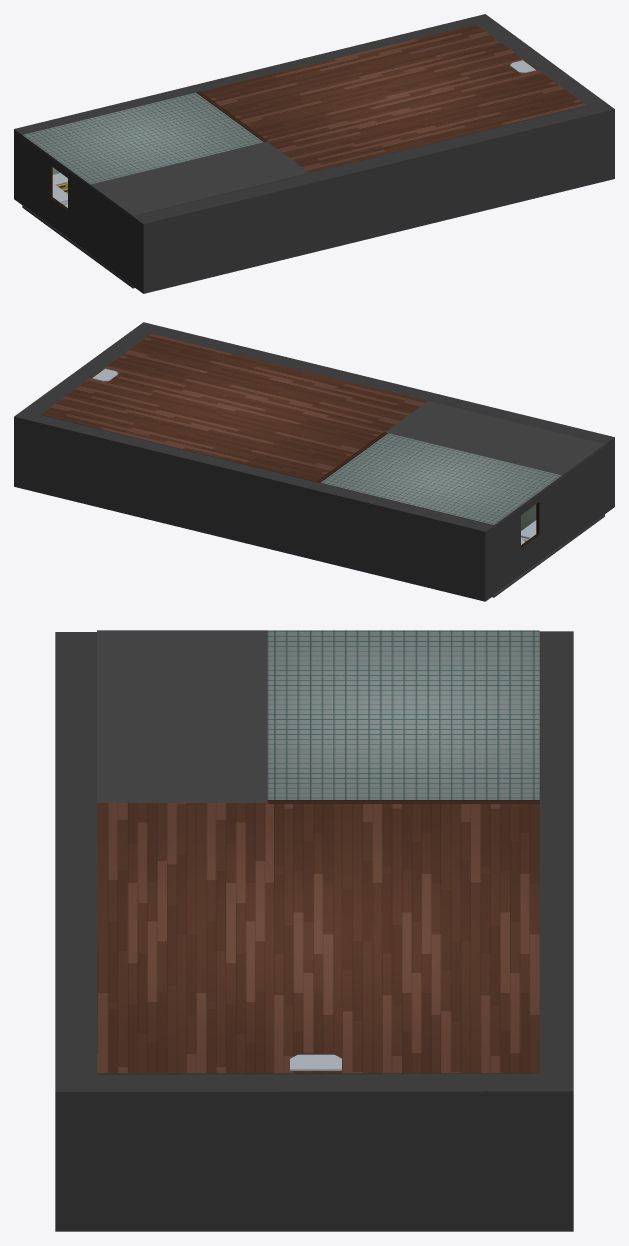
The model's file is CompleteRoom_70s_v10.fbx.
3 views of the same model, one above another, from view 1: azimuth 30°, elevation 25°; view 2: azimuth 150°, elevation 25°; view 3: azimuth 270°, elevation 25° (orthographic). The views are drawn at different scales.
Parts seen in each view (by area): view 1: U_Ceiling_70s, U_Wall_70s_2, U_SideRoom_70s, U_Wall_70s_7, U_Wall_70s_3, U_Wall_70s_1, U_Wall_70s_5, U_KitchenCounters_70s, U_Floor_70s; view 2: U_Ceiling_70s, U_Wall_70s_3, U_Wall_70s_5, U_SideRoom_70s, U_Wall_70s_7, U_Wall_70s_1, U_Wall_70s_2, U_Floor_70s; view 3: U_Ceiling_70s, U_Wall_70s_1, U_Wall_70s_2, U_Wall_70s_3, U_SideRoom_70s, U_Wall_70s_5, U_Fireplace_70s_1.
Part boxes in pixels (<box>): U_Ceiling_70s: <box>22,24,586,218</box>; U_Wall_70s_2: <box>310,101,614,250</box>; U_SideRoom_70s: <box>88,173,320,293</box>; U_Wall_70s_7: <box>14,128,88,252</box>; U_Wall_70s_3: <box>191,19,472,91</box>; U_Wall_70s_1: <box>466,14,603,104</box>; U_Wall_70s_5: <box>17,86,195,174</box>; U_KitchenCounters_70s: <box>52,173,67,207</box>; U_Floor_70s: <box>22,205,134,288</box>; U_Ceiling_70s: <box>40,333,604,527</box>; U_Wall_70s_3: <box>34,415,316,558</box>; U_Wall_70s_5: <box>311,483,490,600</box>; U_SideRoom_70s: <box>429,394,614,546</box>; U_Wall_70s_7: <box>482,480,559,601</box>; U_Wall_70s_1: <box>14,330,148,491</box>; U_Wall_70s_2: <box>132,322,437,400</box>; U_Floor_70s: <box>492,514,604,597</box>; U_Ceiling_70s: <box>97,630,539,1074</box>; U_Wall_70s_1: <box>100,1071,573,1231</box>; U_Wall_70s_2: <box>55,804,100,1231</box>; U_Wall_70s_3: <box>539,804,573,1071</box>; U_SideRoom_70s: <box>55,632,96,804</box>; U_Wall_70s_5: <box>539,634,573,801</box>; U_Fireplace_70s_1: <box>290,1054,341,1070</box>.
Bounding box in the file's own units: 187 × 27.79 × 89.
